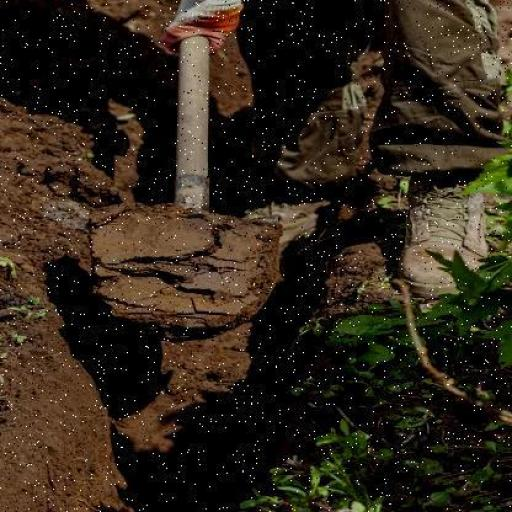safety_shoe: (391, 173, 503, 301)
